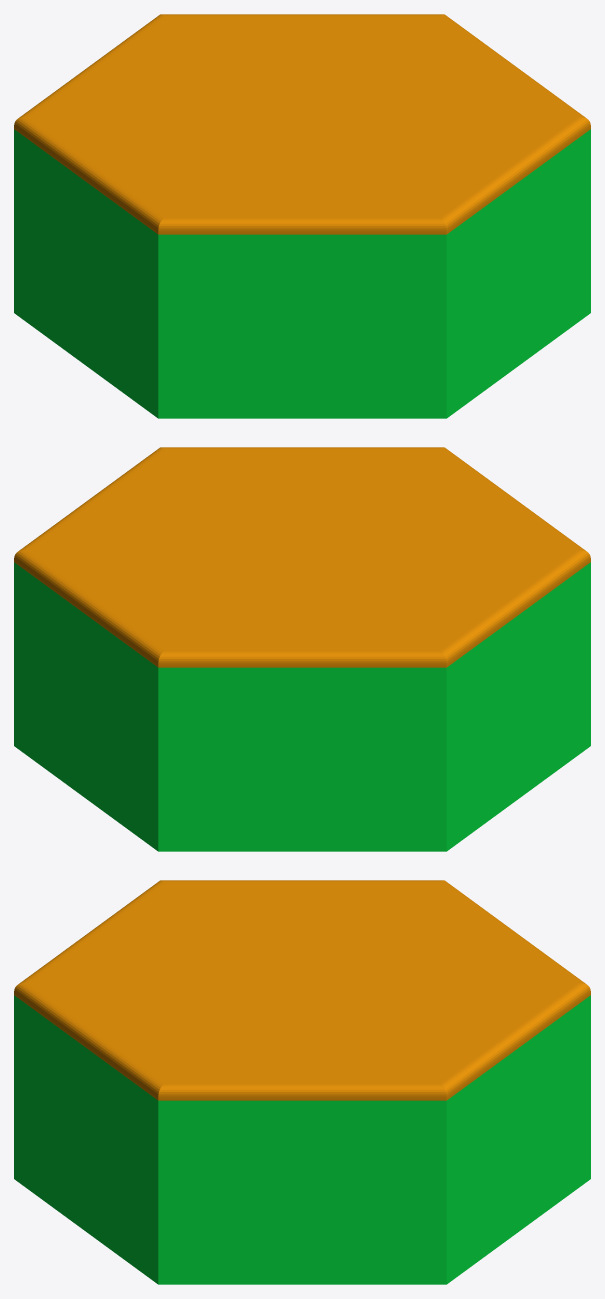
The model's file is Hex3.fbx.
The picture shows the model from 3 angles, top to bottom: view 1: azimuth 30°, elevation 25°; view 2: azimuth 150°, elevation 25°; view 3: azimuth 270°, elevation 25°; orthographic projection.
Parts seen in each view (by area): view 1: Hexagone; view 2: Hexagone; view 3: Hexagone.
Part boxes in pixels (x1=…): Hexagone: x1=14, y1=14, x2=590, y2=418; Hexagone: x1=14, y1=447, x2=590, y2=851; Hexagone: x1=14, y1=880, x2=590, y2=1284.
Bounding box in the file's own units: 200 × 173 × 75.
